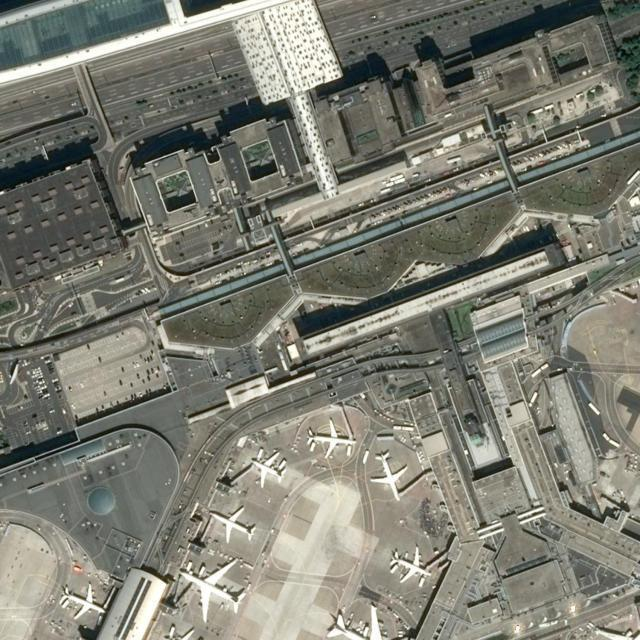Aircraft: (178, 556, 246, 621), (325, 602, 401, 640), (306, 416, 356, 456), (370, 451, 406, 503), (209, 506, 257, 543), (59, 582, 105, 620), (388, 545, 432, 584), (589, 609, 640, 640), (251, 450, 287, 486)
